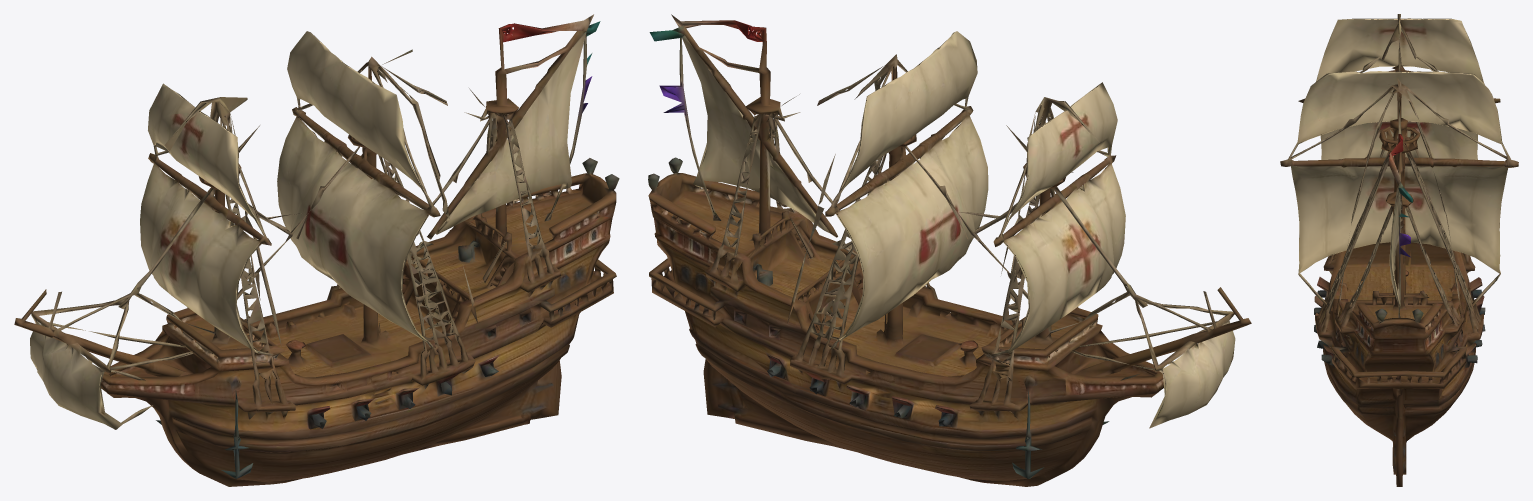
The model's file is ship_carrack.glb.
3 views of the same model, side by side, from view 1: azimuth 30°, elevation 25°; view 2: azimuth 150°, elevation 25°; view 3: azimuth 270°, elevation 25° (orthographic). The views are drawn at different scales.
Visible parts, largest first — view 1: tripo_node_cd3bfb6c-40c9-4e35-a9c0-eb887c632107; view 2: tripo_node_cd3bfb6c-40c9-4e35-a9c0-eb887c632107; view 3: tripo_node_cd3bfb6c-40c9-4e35-a9c0-eb887c632107.
Part boxes in pixels (bbox=[...]): tripo_node_cd3bfb6c-40c9-4e35-a9c0-eb887c632107: bbox=[14, 14, 619, 486]; tripo_node_cd3bfb6c-40c9-4e35-a9c0-eb887c632107: bbox=[648, 14, 1251, 486]; tripo_node_cd3bfb6c-40c9-4e35-a9c0-eb887c632107: bbox=[1280, 14, 1518, 486].
Bounding box in the file's own units: 0.9647 × 0.6266 × 0.4057.
1 material, 1 textured.
